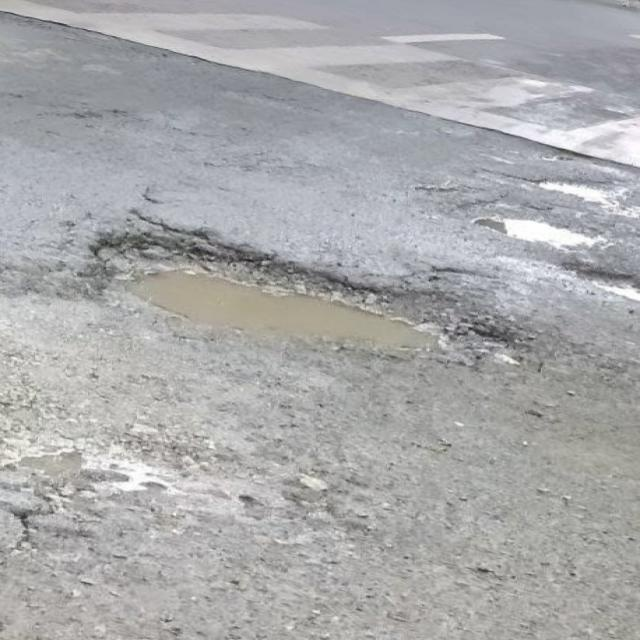pothole: (59, 196, 510, 418), (438, 174, 622, 260)
